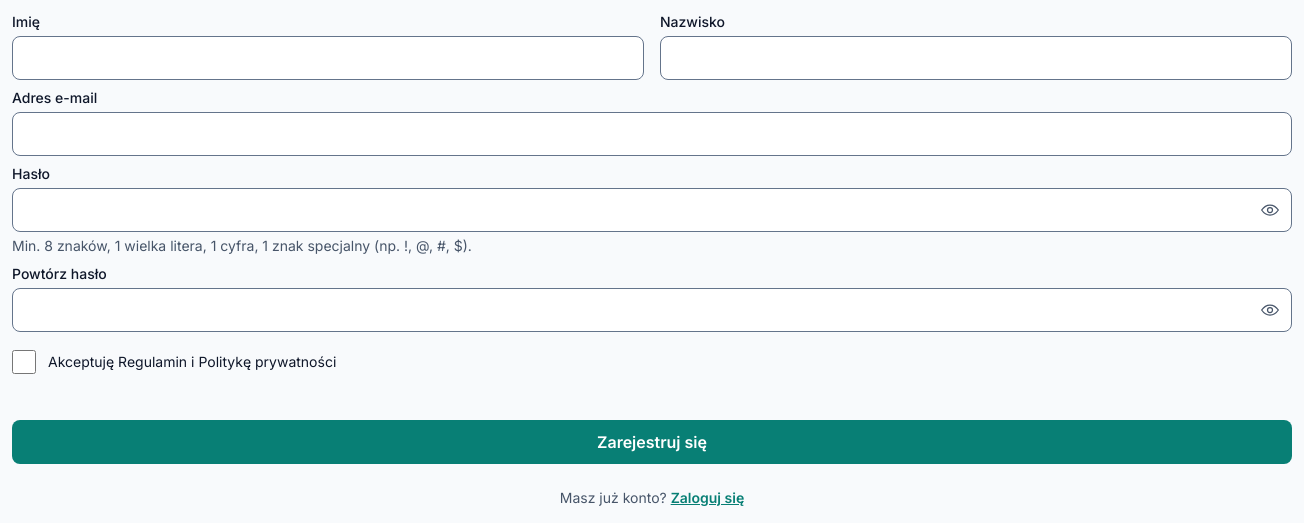
Scenario: RegisterForm › blocks submit when the terms are not accepted
In the field labelled "Imię": (328, 58) [12, 36, 644, 80], type "Jan"
In the field labelled "Nazwisko": (976, 58) [660, 36, 1292, 80], type "Kowalski"
In the field labelled "Adres e-mail": (652, 134) [12, 112, 1292, 156], type "jan@example.com"
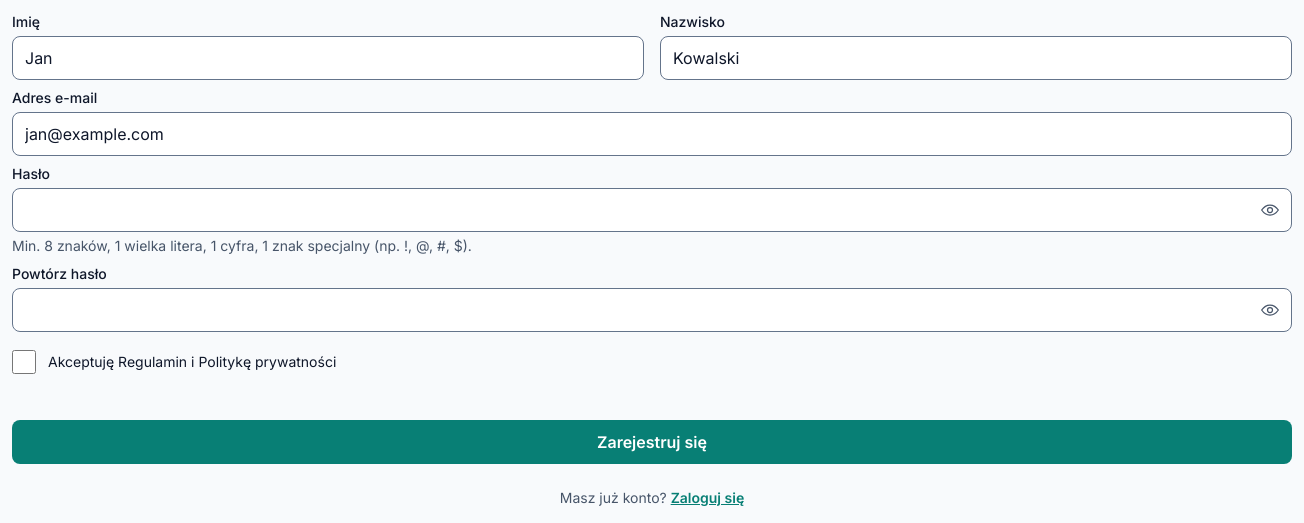
In the password field labelled "Hasło": (652, 210) [12, 188, 1292, 232], type "Haslo123!"
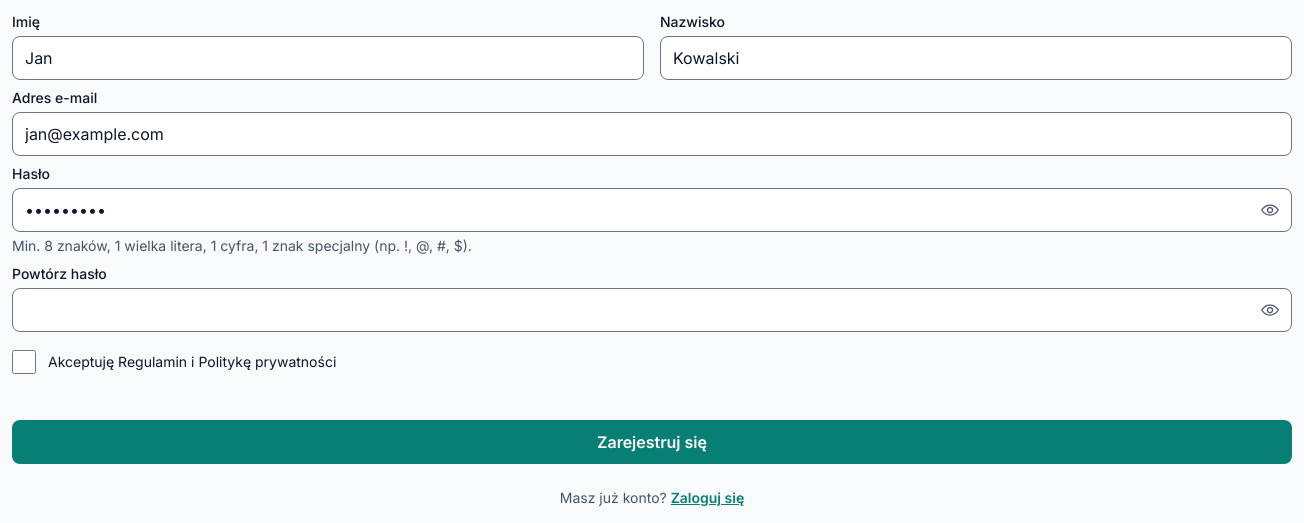
In the password field labelled "Powtórz hasło": (652, 310) [12, 288, 1292, 332], type "Haslo123!"
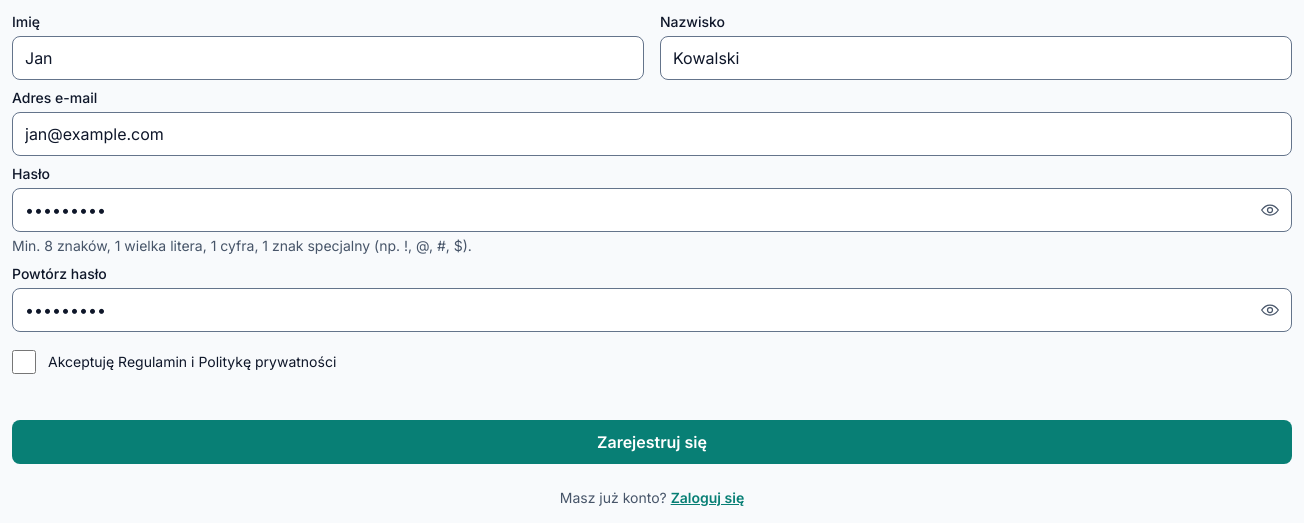
Click the checkbox labelled "Akceptuję Regulamin i Politykę prywatności": (24, 362) [12, 350, 36, 374]
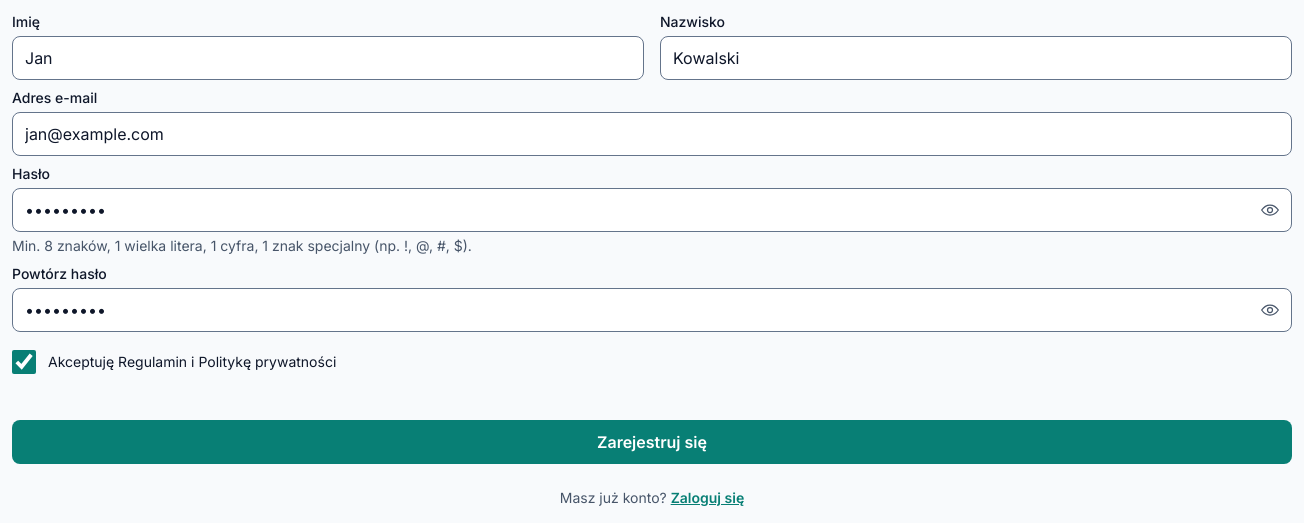
Click the checkbox labelled "Akceptuję Regulamin i Politykę prywatności": (24, 362) [12, 350, 36, 374]
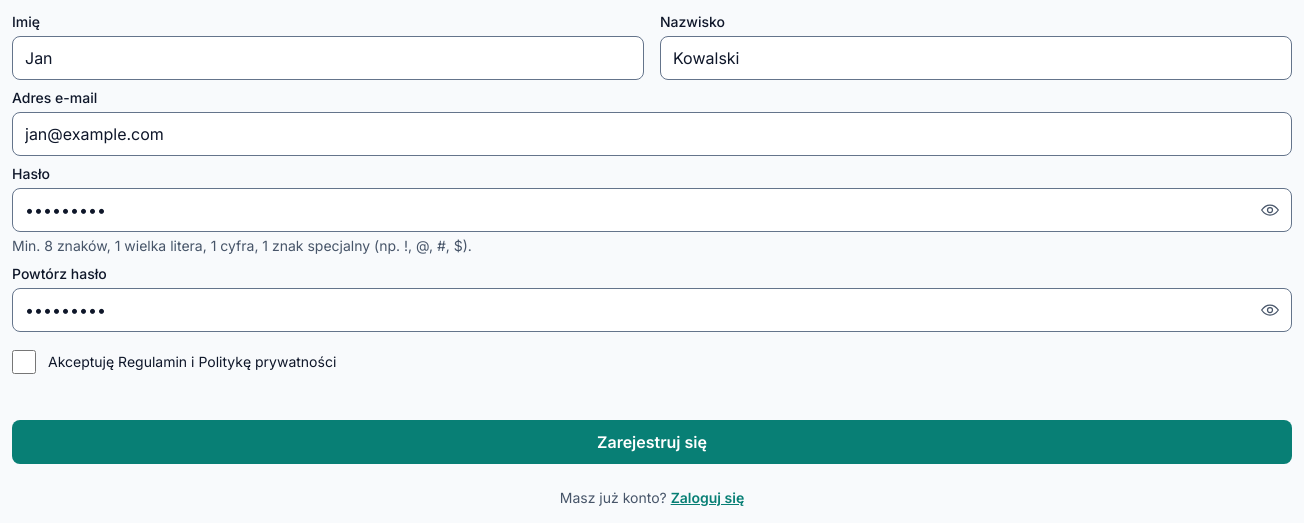
Click the button "Zarejestruj się": (652, 442) [12, 420, 1292, 464]
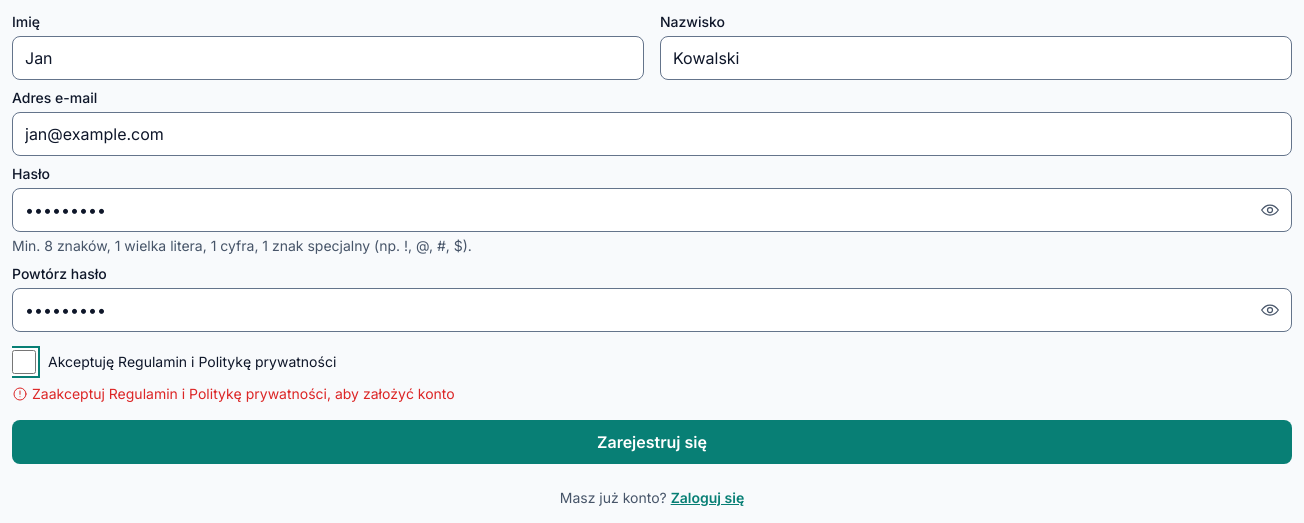
Expected: the text "Zaakceptuj Regulamin i Politykę prywatności, aby założyć konto" is shown, [12, 385, 455, 402]
